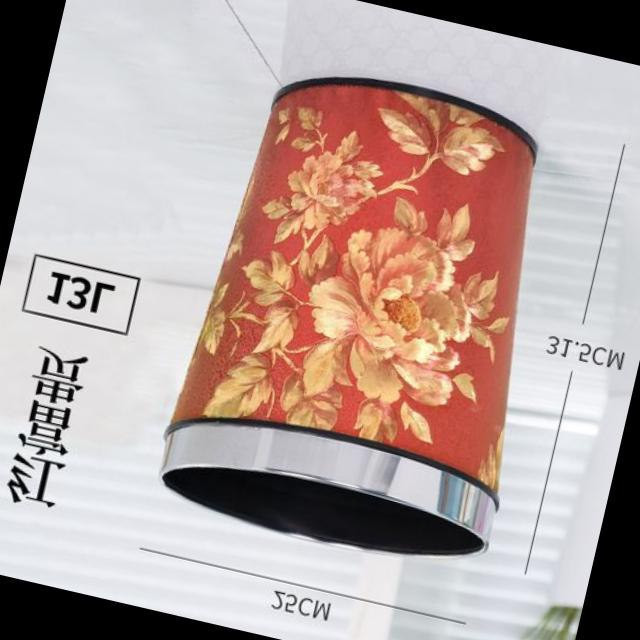dustbin: (133, 33, 599, 590)
